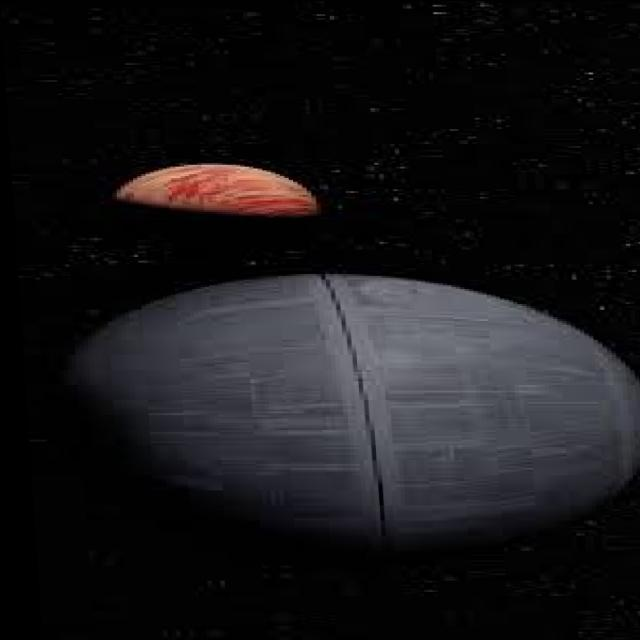deathStar: (37, 272, 640, 546)
